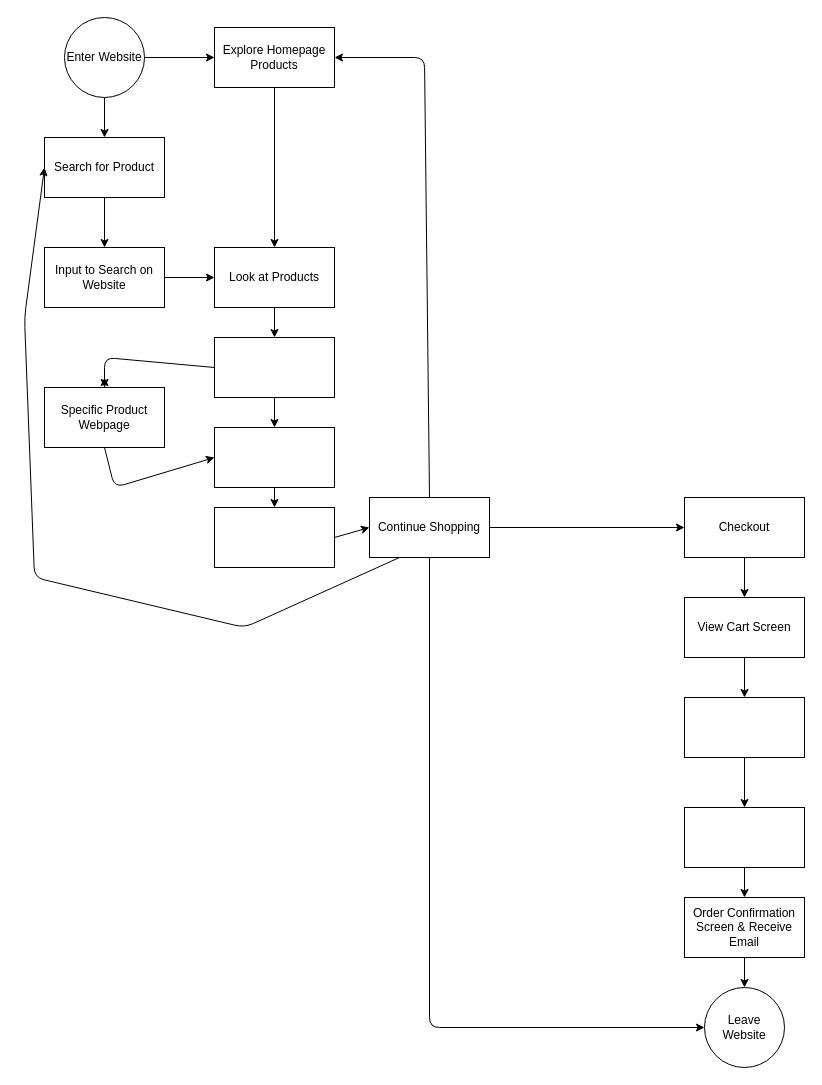
Some shapes in this 822 by 1085 pixel diagram are drawn without their labels. Here are the shapes that lost their labels. From the top down, the centre of each, then its label:
(274,367): View Specific Product
(274,457): Add to Cart
(274,537): Added to Cart Confirmation
(744,727): View Payment Screen
(744,837): Input Payment Information
